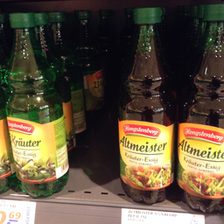vinegar: (117, 6, 178, 204), (6, 11, 70, 196), (178, 5, 224, 212)
